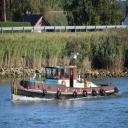tugboat: (11, 46, 121, 104)
